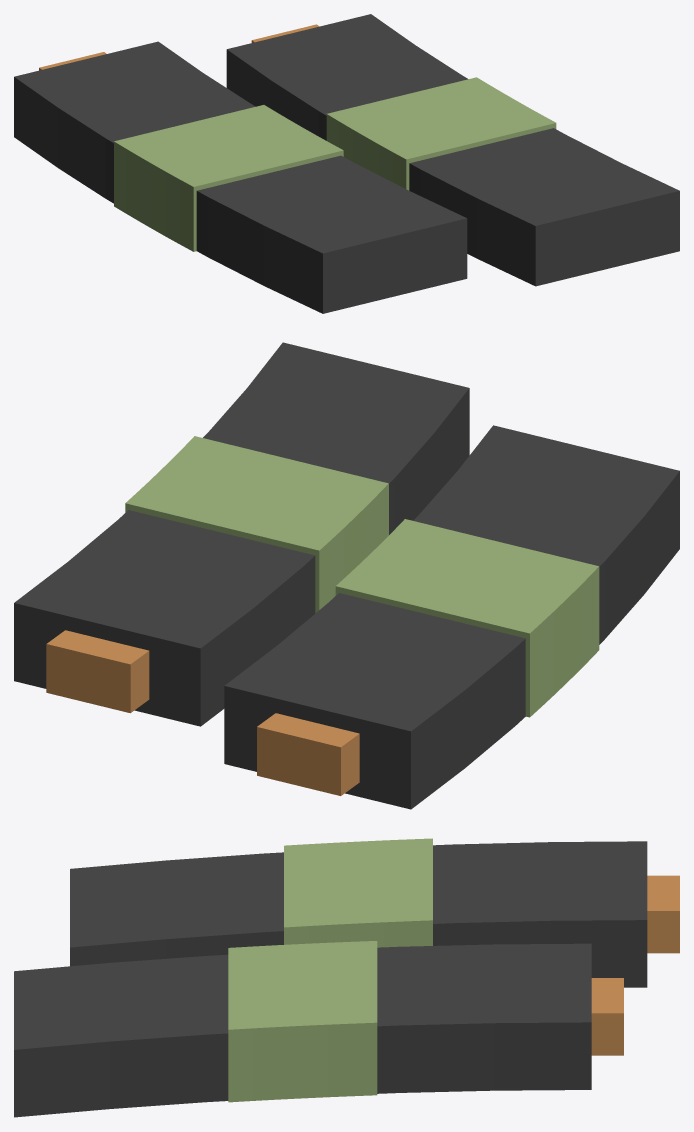
Rendered from ce_ammo_rifle_hp_b.obj.
The picture shows the model from 3 angles, top to bottom: view 1: azimuth 30°, elevation 25°; view 2: azimuth 150°, elevation 25°; view 3: azimuth 270°, elevation 25°; orthographic projection. The views are drawn at different scales.
Parts seen in each view (by area): view 1: ce_ammo_rifle_hp_b_0, ce_ammo_rifle_hp_b_3, ce_ammo_rifle_hp_b_1, ce_ammo_rifle_hp_b_4; view 2: ce_ammo_rifle_hp_b_0, ce_ammo_rifle_hp_b_3, ce_ammo_rifle_hp_b_1, ce_ammo_rifle_hp_b_4, ce_ammo_rifle_hp_b_5, ce_ammo_rifle_hp_b_2; view 3: ce_ammo_rifle_hp_b_3, ce_ammo_rifle_hp_b_0, ce_ammo_rifle_hp_b_4, ce_ammo_rifle_hp_b_1, ce_ammo_rifle_hp_b_2, ce_ammo_rifle_hp_b_5.
Part boxes in pixels (x1,y1,x2,y2): ce_ammo_rifle_hp_b_0: [14, 41, 467, 313]; ce_ammo_rifle_hp_b_3: [226, 14, 679, 286]; ce_ammo_rifle_hp_b_1: [114, 105, 343, 251]; ce_ammo_rifle_hp_b_4: [326, 77, 556, 190]; ce_ammo_rifle_hp_b_0: [224, 425, 679, 809]; ce_ammo_rifle_hp_b_3: [14, 342, 469, 726]; ce_ammo_rifle_hp_b_1: [335, 519, 599, 717]; ce_ammo_rifle_hp_b_4: [125, 436, 388, 613]; ce_ammo_rifle_hp_b_5: [46, 630, 149, 713]; ce_ammo_rifle_hp_b_2: [257, 713, 359, 795]; ce_ammo_rifle_hp_b_3: [14, 943, 591, 1117]; ce_ammo_rifle_hp_b_0: [70, 841, 647, 987]; ce_ammo_rifle_hp_b_4: [228, 941, 377, 1102]; ce_ammo_rifle_hp_b_1: [284, 838, 432, 947]; ce_ammo_rifle_hp_b_2: [647, 875, 679, 953]; ce_ammo_rifle_hp_b_5: [591, 978, 623, 1055].
Bounding box in the file's own units: 0.53 × 0.086 × 0.715.
